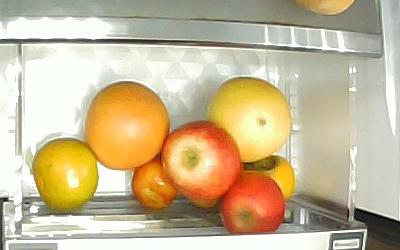apple: (161, 121, 243, 200), (218, 170, 286, 235)
grapefruit: (85, 81, 170, 171), (207, 76, 292, 162)
persimmon: (33, 138, 99, 211), (241, 155, 295, 202)
prune: (131, 155, 180, 210)
